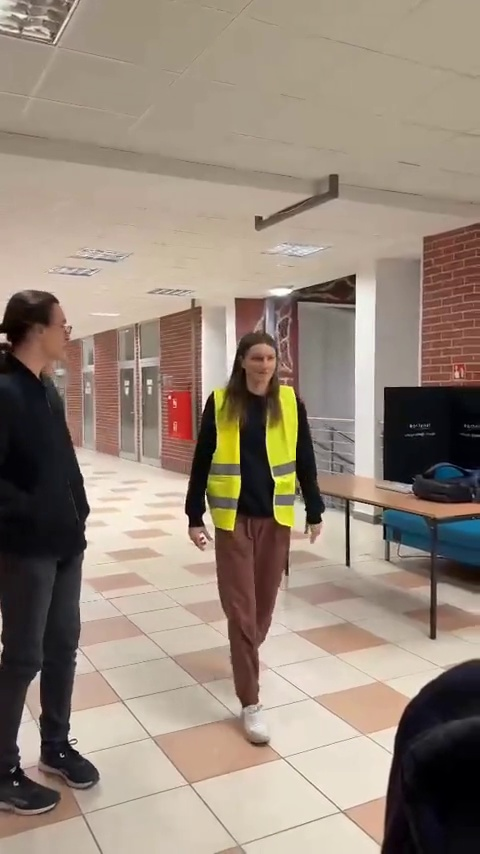no vest: (0, 292, 105, 819)
vest: (189, 329, 331, 755)
